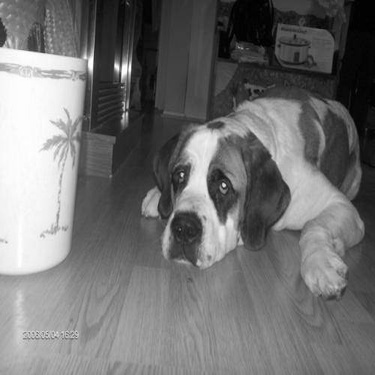dog: (136, 77, 368, 302)
